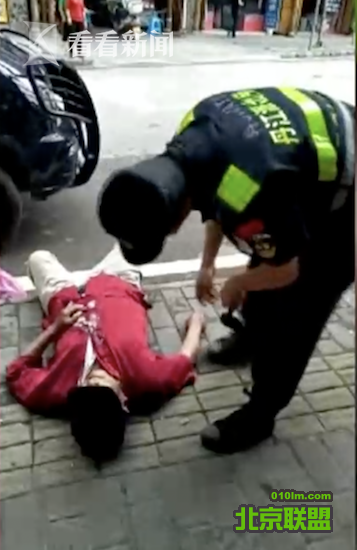fall: (14, 245, 206, 465)
